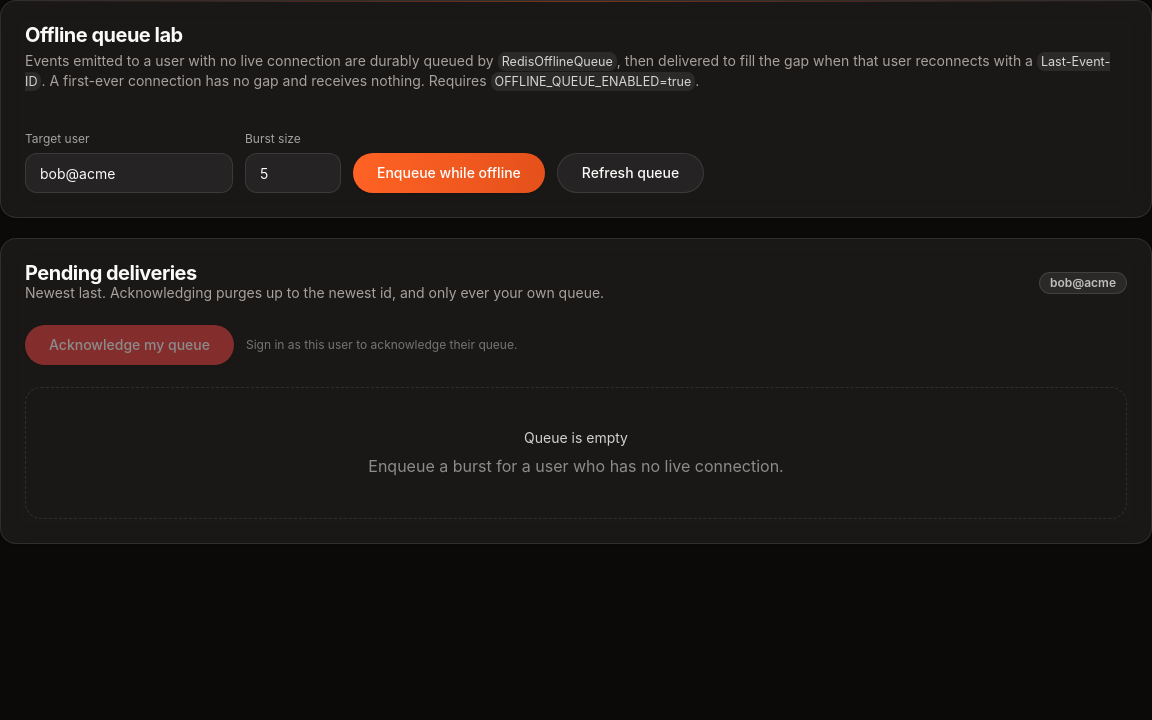
Scenario: OfflineLabPage › enqueues a burst and re-reads the queue
Check: the text "Queue is empty" is shown, box 524,429 -> 628,446
Click the button "Enqueue while offline".
click(449, 173)  # box 353,153 -> 545,193
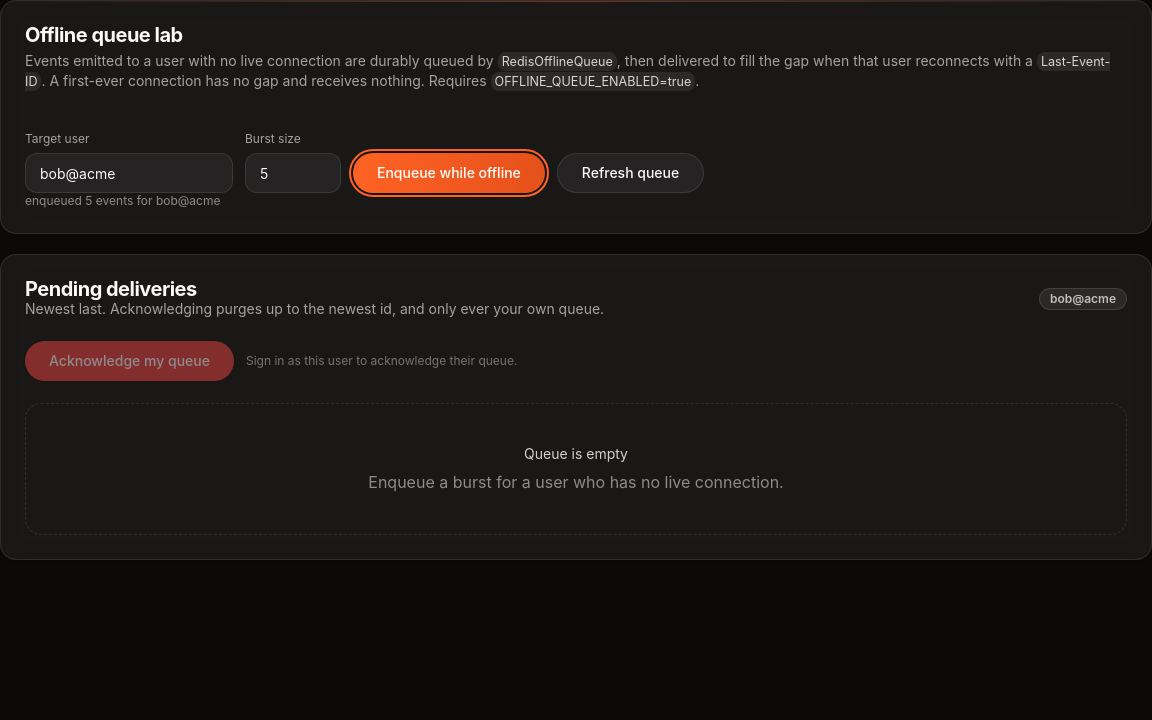
Check: the text "enqueued 5 events for bob@acme" is shown, box 25,193 -> 220,208
